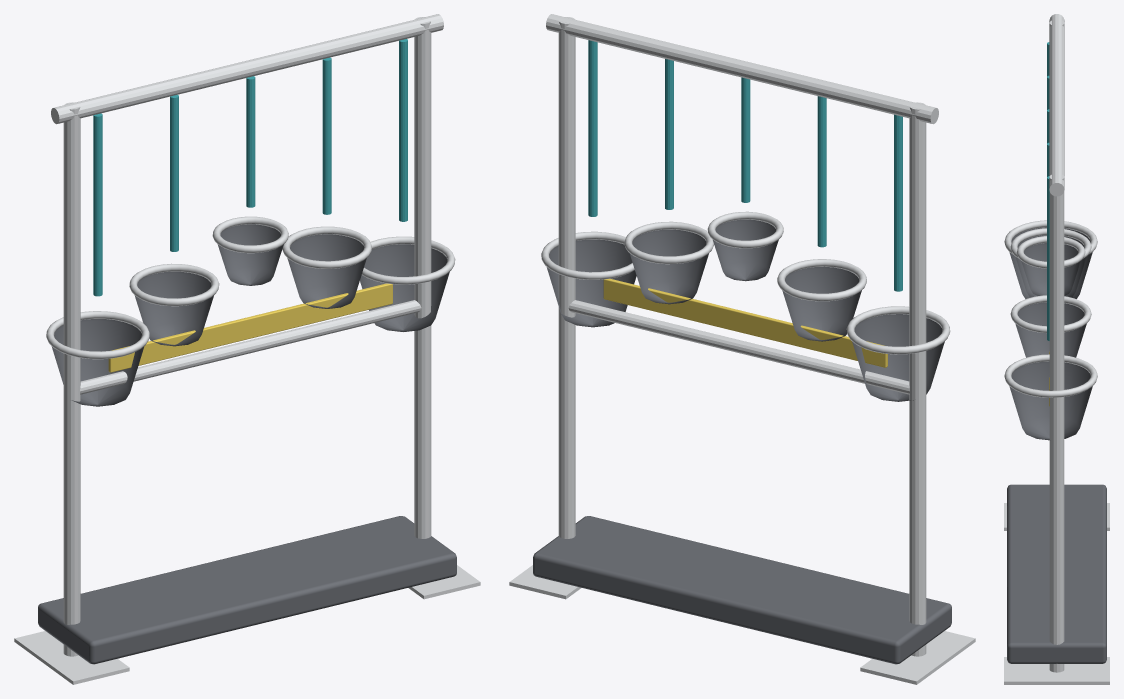
File: public-aquarium-and-marine-centre-net-rack-c23fde02__34183.glb
3 views of the same model, side by side, from view 1: azimuth 30°, elevation 25°; view 2: azimuth 150°, elevation 25°; view 3: azimuth 270°, elevation 25° (orthographic). The views are drawn at different scales.
Visible parts, largest first — view 1: net-rack; view 2: net-rack; view 3: net-rack.
Part boxes in pixels (bbox=[...]): net-rack: bbox=[14, 14, 480, 684]; net-rack: bbox=[509, 14, 975, 684]; net-rack: bbox=[1004, 14, 1109, 684].
Bounding box in the file's own units: 1.44 × 1.87 × 0.36.
